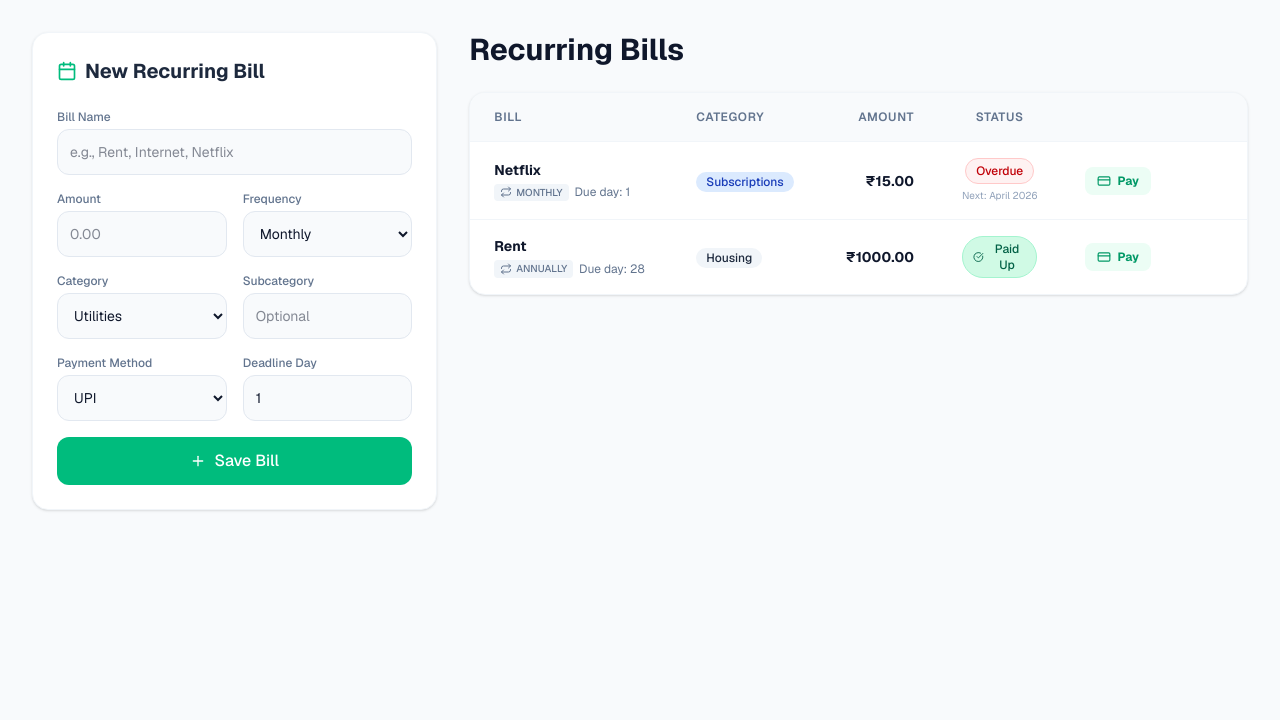
Test: BillsManager Component › validates form missing fields
This screenshot has width=1280, height=720.
Click the button "Save Bill": (235, 461) [57,437,412,485]
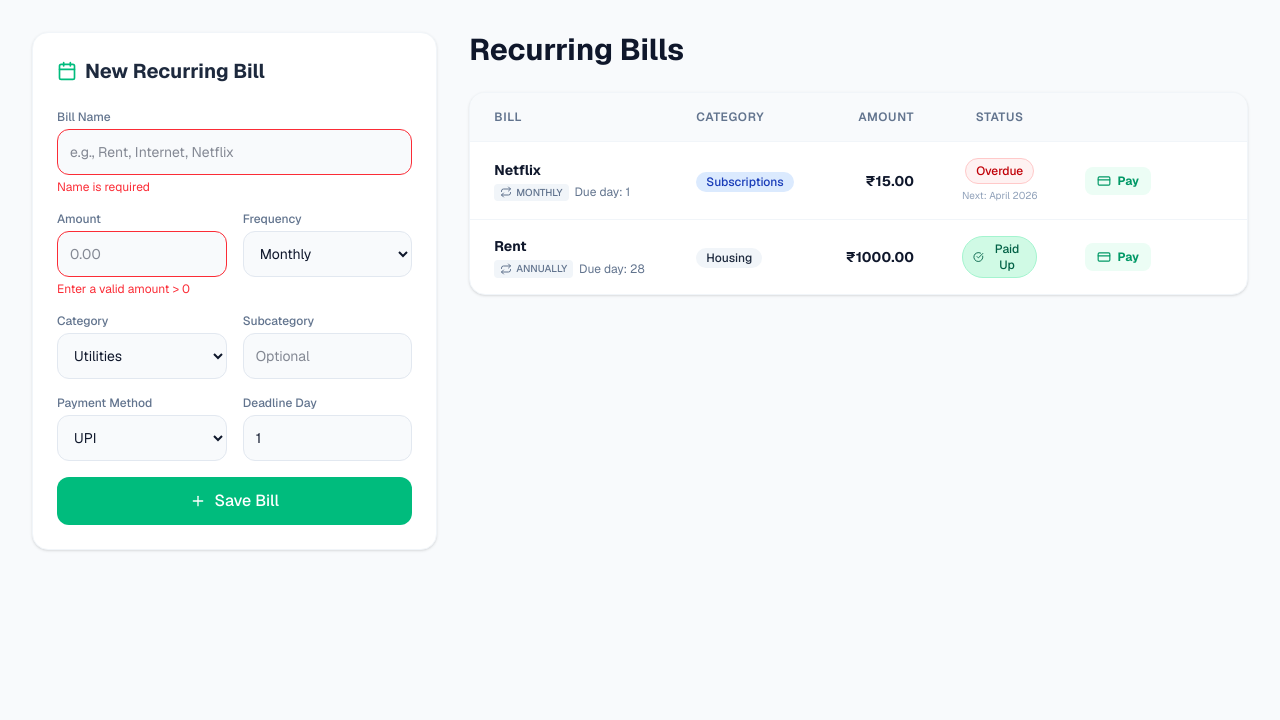
Now the text "Name is required" is shown, box [57,179,150,195]
Now the text "Enter a valid amount > 0" is shown, box [57,281,190,297]
